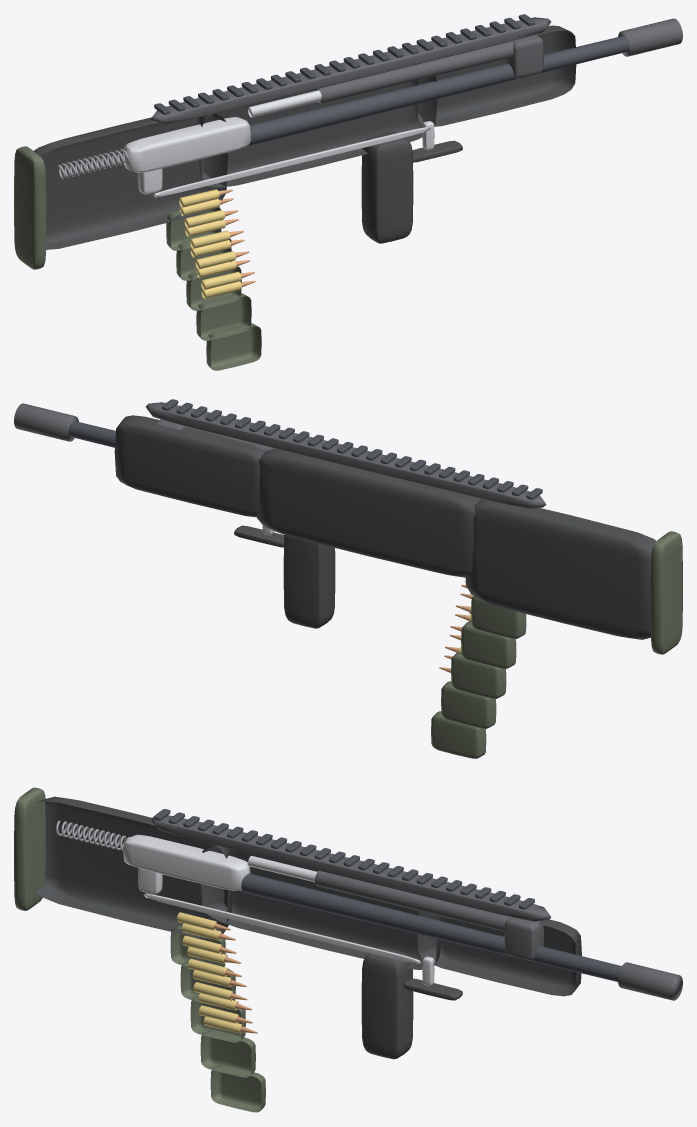
File: malyuk-cut.glb
The picture shows the model from 3 angles, top to bottom: view 1: azimuth 30°, elevation 25°; view 2: azimuth 150°, elevation 25°; view 3: azimuth 330°, elevation 25°; orthographic projection.
Parts seen in each view (by area): view 1: chassis_rear_stock, chassis_mid_receiver, barrel_415mm, top_rail_base, chassis_forend, pistol_grip, bolt_carrier, buttpad, gas_tube, mag_seg_4, bullpup_transfer_bar, mag_seg_3 (+9 smaller); view 2: chassis_rear_stock, chassis_mid_receiver, chassis_forend, top_rail_base, pistol_grip, buttpad, mag_seg_4, mag_seg_1, mag_seg_3, mag_seg_2, mag_seg_0, muzzle_brake (+2 smaller); view 3: chassis_rear_stock, chassis_mid_receiver, barrel_415mm, chassis_forend, top_rail_base, pistol_grip, bolt_carrier, buttpad, gas_tube, mag_seg_4, bullpup_transfer_bar, mag_seg_3 (+9 smaller).
Part boxes in pixels (x1,y1,x2,y2): chassis_rear_stock: (34, 113, 227, 249); chassis_mid_receiver: (197, 76, 437, 187); barrel_415mm: (247, 36, 628, 145); top_rail_base: (150, 17, 551, 123); chassis_forend: (411, 25, 576, 126); pistol_grip: (361, 131, 413, 243); bolt_carrier: (124, 117, 250, 172); buttpad: (14, 146, 46, 269); gas_tube: (315, 41, 513, 103); mag_seg_4: (206, 323, 261, 370); bullpup_transfer_bar: (153, 127, 430, 197); mag_seg_3: (196, 293, 251, 340); chassis_rear_stock: (465, 498, 655, 639); chassis_mid_receiver: (256, 448, 481, 577); chassis_forend: (114, 415, 264, 517); top_rail_base: (145, 402, 546, 508); pistol_grip: (283, 535, 335, 628); buttpad: (650, 531, 682, 654); mag_seg_4: (431, 711, 486, 758); mag_seg_1: (461, 622, 516, 668); mag_seg_3: (441, 681, 496, 728); mag_seg_2: (451, 653, 506, 698); mag_seg_0: (471, 596, 526, 638); muzzle_brake: (14, 403, 78, 441); chassis_rear_stock: (36, 796, 232, 938); chassis_mid_receiver: (201, 844, 441, 969); barrel_415mm: (241, 873, 621, 981); chassis_forend: (417, 911, 581, 996); top_rail_base: (150, 815, 551, 921); pistol_grip: (361, 947, 413, 1059); bolt_carrier: (123, 834, 250, 890); buttpad: (14, 787, 45, 910); gas_tube: (315, 870, 511, 931); mag_seg_4: (210, 1065, 265, 1112); bullpup_transfer_bar: (144, 893, 421, 963); mag_seg_3: (200, 1030, 255, 1077).
Size of the model in its own units: 0.716 by 0.291 by 0.045.
